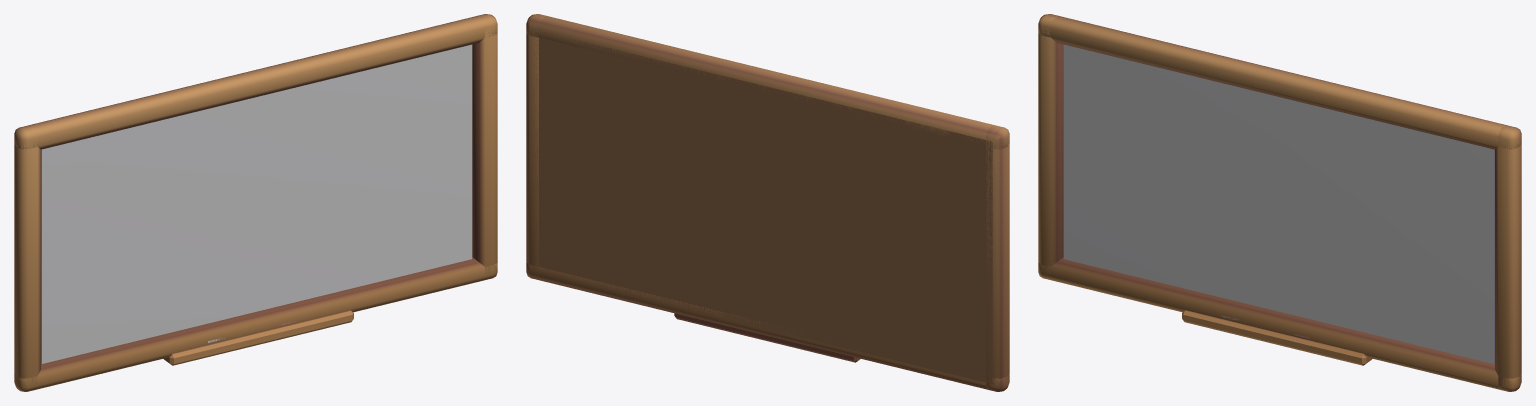
The model's file is board_classic.glb.
3 renders of one model, left to right at view 1: azimuth 30°, elevation 25°; view 2: azimuth 150°, elevation 25°; view 3: azimuth 330°, elevation 25°, orthographic.
Visible parts, largest first — view 1: board_classic_menu, board_classic; view 2: board_classic; view 3: board_classic_menu, board_classic.
Boxes of the visible parts, box(x1,y1,x2,y2) form: board_classic_menu: box(41, 44, 472, 363); board_classic: box(14, 14, 497, 391); board_classic: box(526, 14, 1009, 391); board_classic_menu: box(1063, 44, 1494, 363); board_classic: box(1038, 14, 1521, 391).
Bounding box in the file's own units: 2.6 × 1.39 × 0.12.
